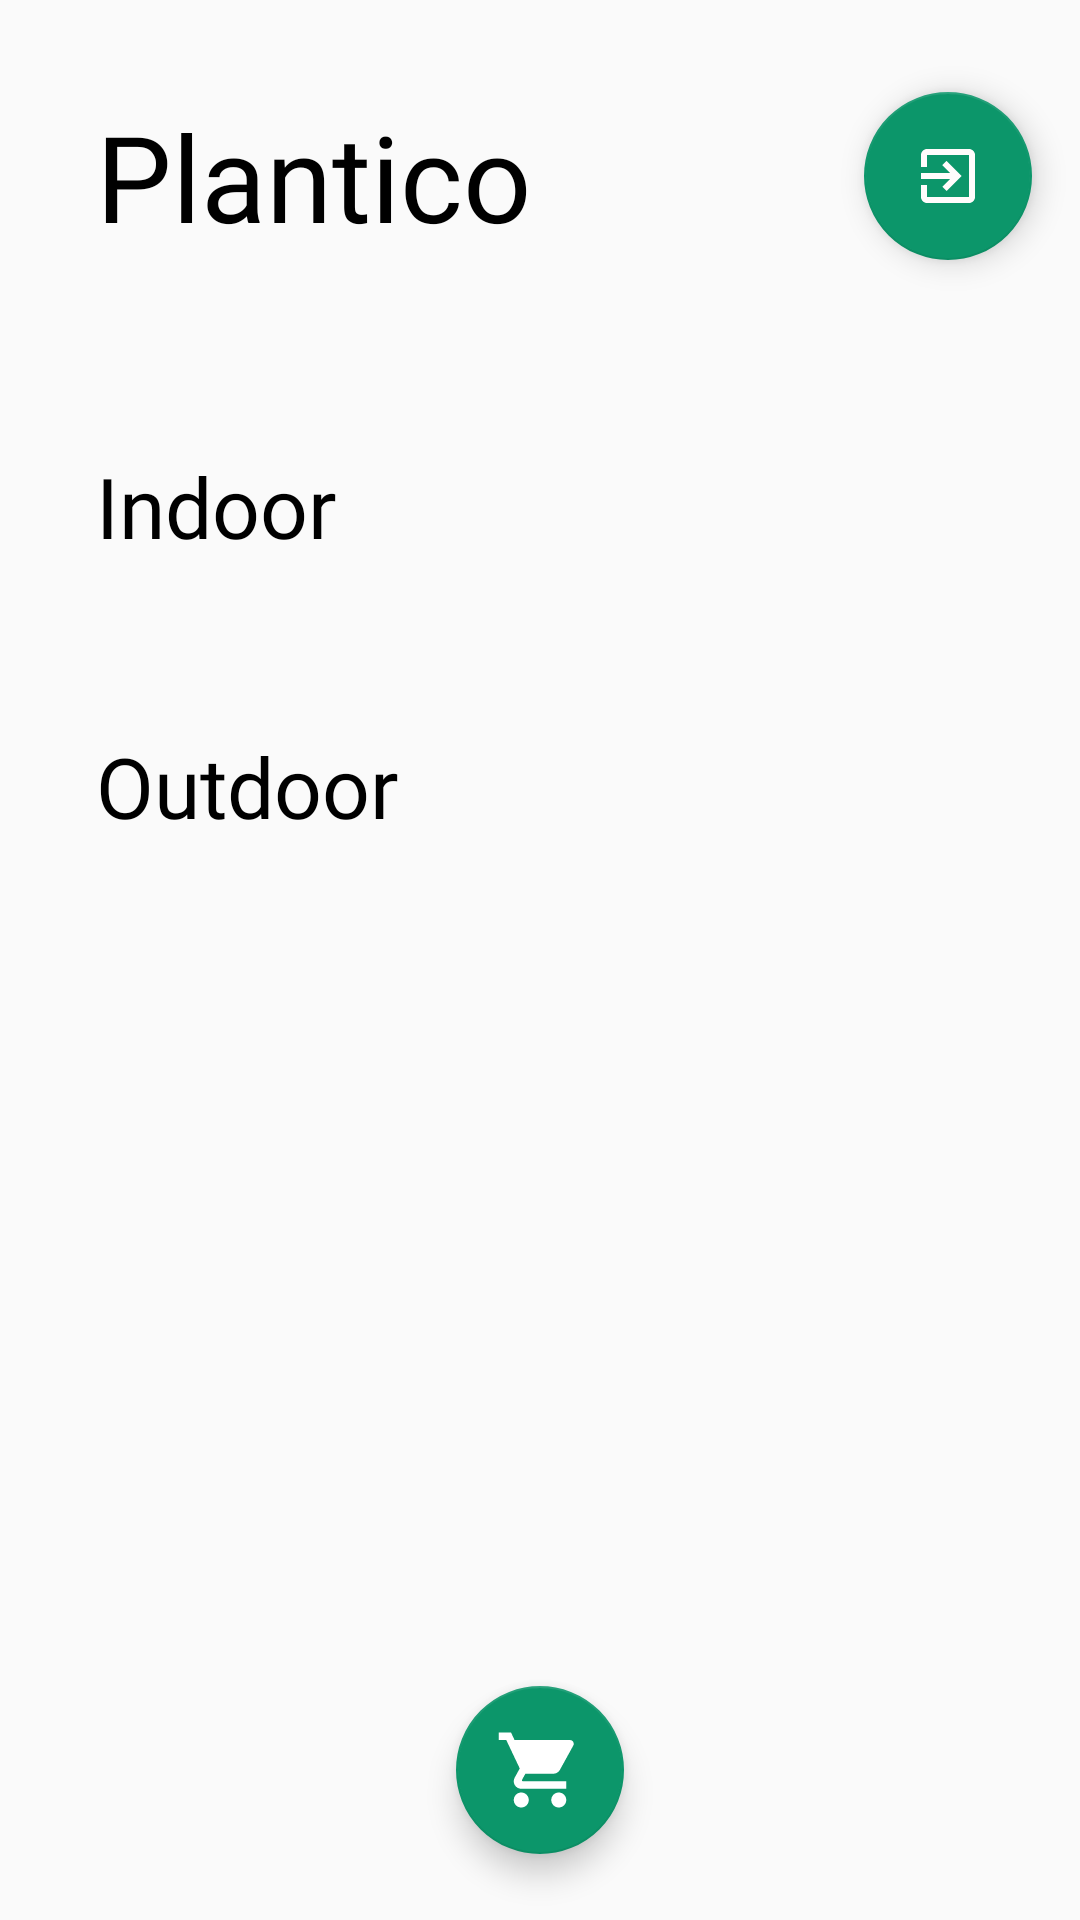

Screen size 1080w x 1920h. Icon name, then its center in pixels as (x,y):
shopping cart: (540,1770)
